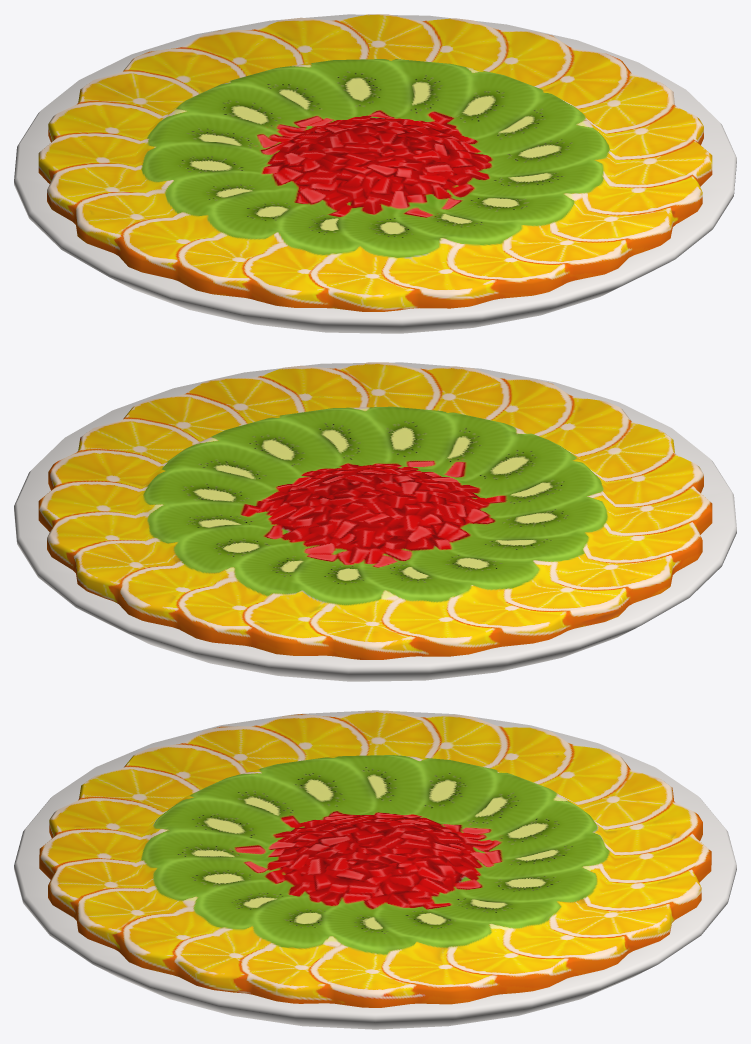
File: BuffetFruits01_1.FBX
The picture shows the model from 3 angles, top to bottom: view 1: azimuth 30°, elevation 25°; view 2: azimuth 150°, elevation 25°; view 3: azimuth 270°, elevation 25°; orthographic projection.
Visible parts, largest first — view 1: BuffetFruits01_1; view 2: BuffetFruits01_1; view 3: BuffetFruits01_1.
Part boxes in pixels (left/top/right/bottom): BuffetFruits01_1: left=14, top=14, right=736, bottom=333; BuffetFruits01_1: left=14, top=362, right=736, bottom=681; BuffetFruits01_1: left=14, top=710, right=736, bottom=1029.
Size of what is drawn, in the model's own units: 0.5988 by 0.0395 by 0.5988.
